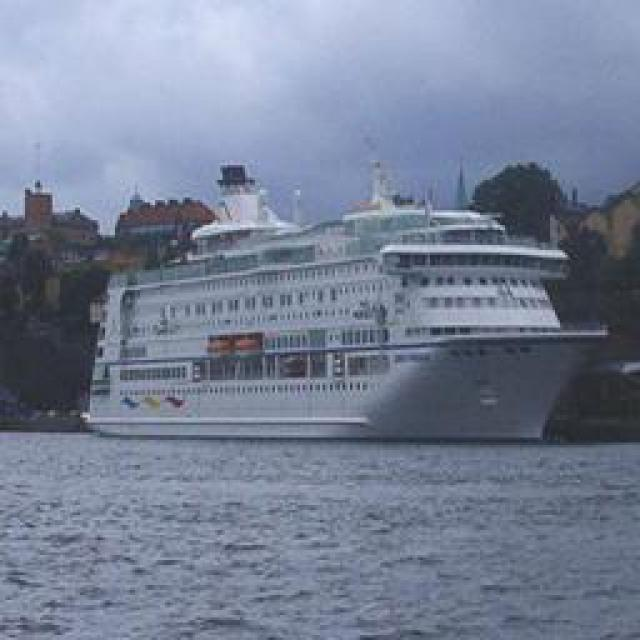Ship: (77, 150, 596, 440)
